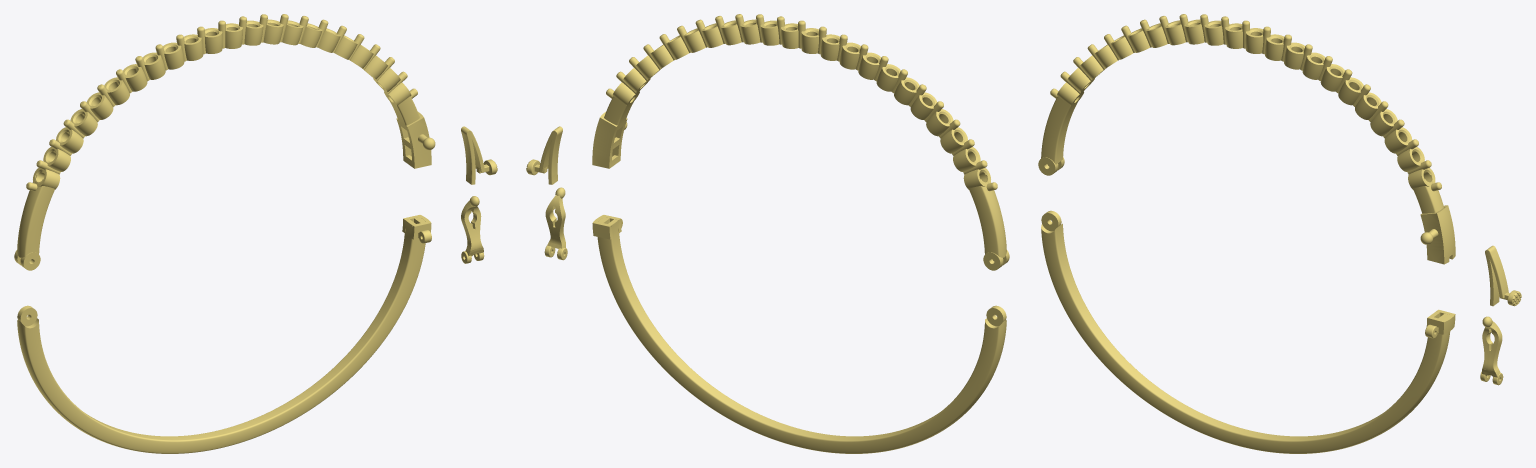
File: design-64-cad.glb
3 renders of one model, left to right at view 1: azimuth 30°, elevation 25°; view 2: azimuth 150°, elevation 25°; view 3: azimuth 330°, elevation 25°, orthographic.
Visible parts, largest first — view 1: design-64-cad; view 2: design-64-cad; view 3: design-64-cad.
Part boxes in pixels (x1=…): design-64-cad: x1=14, y1=14, x2=497, y2=453; design-64-cad: x1=526, y1=14, x2=1009, y2=453; design-64-cad: x1=1038, y1=14, x2=1521, y2=453.
Bounding box in the file's own units: 1 × 0.8551 × 0.0801.
